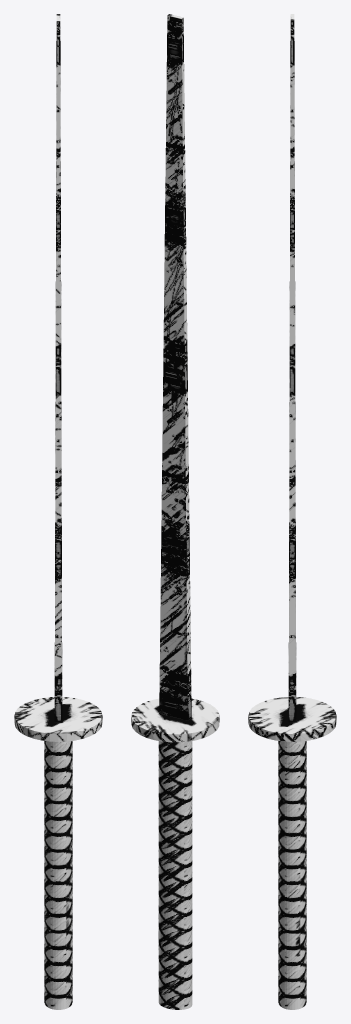
The model's file is katana.glb.
The picture shows the model from 3 angles, left to right: view 1: azimuth 90°, elevation 25°; view 2: azimuth 150°, elevation 25°; view 3: azimuth 270°, elevation 25°; orthographic projection.
Visible parts, largest first — view 1: Katana_1m; view 2: Katana_1m; view 3: Katana_1m.
Part boxes in pixels (x1=…): Katana_1m: x1=14, y1=14, x2=102, y2=1009; Katana_1m: x1=131, y1=14, x2=219, y2=1009; Katana_1m: x1=248, y1=14, x2=336, y2=1009.
Bounding box in the file's own units: 0.08 × 0.988 × 0.08.
1 material, 1 textured.
